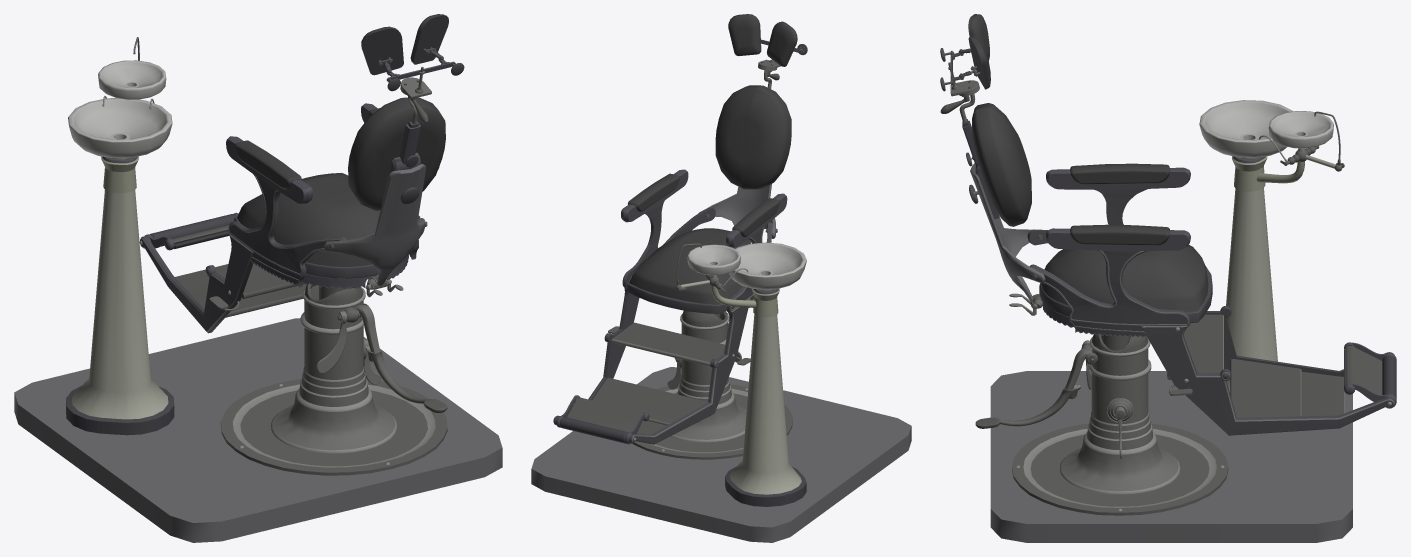
The model's file is odonto1.glb.
3 renders of one model, left to right at view 1: azimuth 30°, elevation 25°; view 2: azimuth 150°, elevation 25°; view 3: azimuth 270°, elevation 25°, orthographic. The views are drawn at different scales.
Visible parts, largest first — view 1: polySurface861_lambert6_0; view 2: polySurface861_lambert6_0; view 3: polySurface861_lambert6_0.
Boxes of the visible parts, x1,y1,x2,y2 form: polySurface861_lambert6_0: (14,14,502,542); polySurface861_lambert6_0: (531,14,911,542); polySurface861_lambert6_0: (940,14,1396,542).
Size of the model in its own units: 0.7108 by 0.9971 by 0.8959.
Materials: 1 (1 with a texture image).
